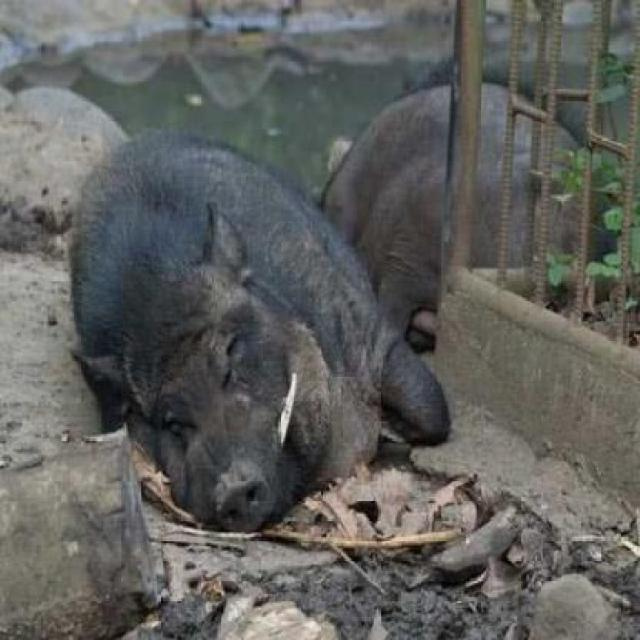pig: (44, 97, 453, 537)
